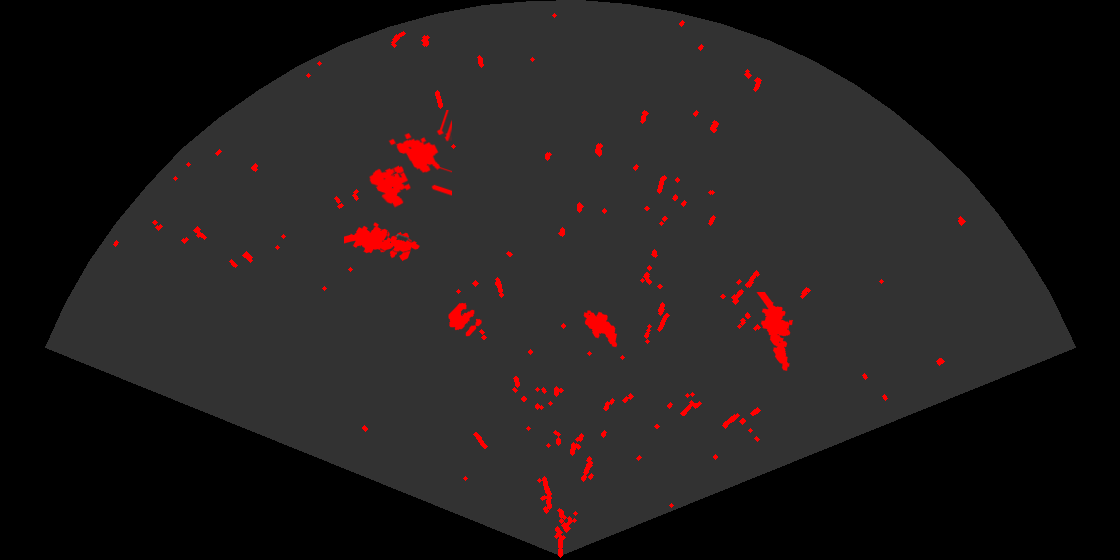AUV: (582, 309, 619, 349)
ball: (447, 301, 483, 338), (378, 230, 415, 263)
cage: (368, 110, 452, 209)
frogman: (755, 292, 795, 373), (344, 221, 421, 255)
